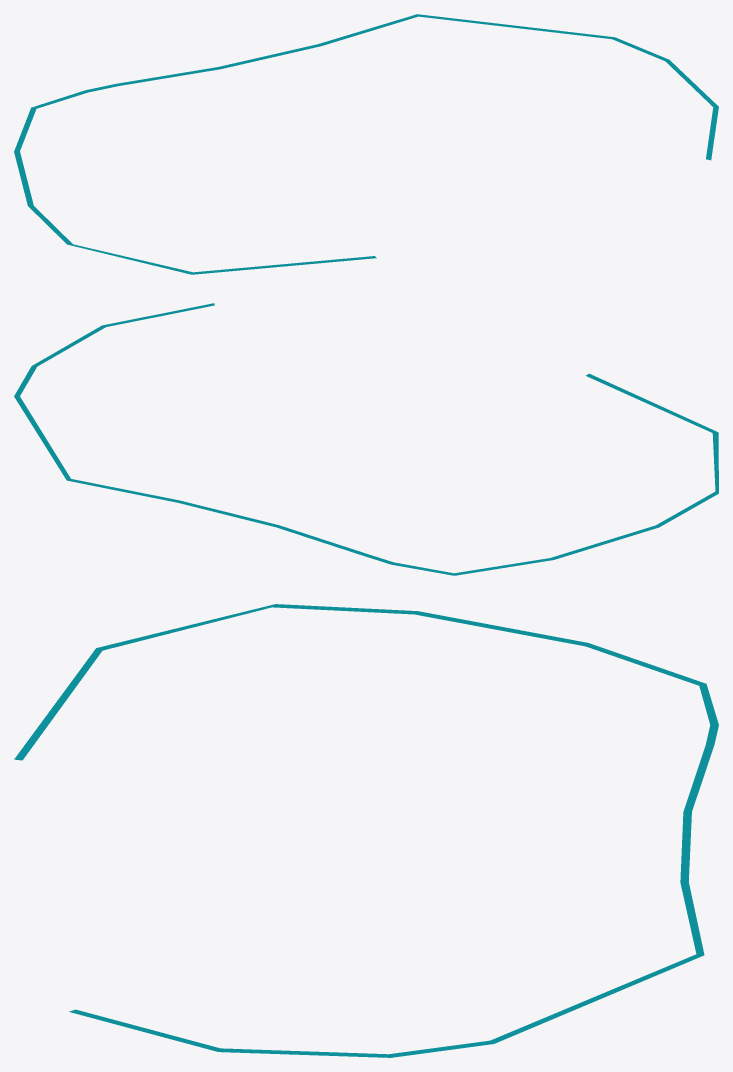
File: moat.fbx
3 views of the same model, one above another, from view 1: azimuth 30°, elevation 25°; view 2: azimuth 150°, elevation 25°; view 3: azimuth 270°, elevation 25° (orthographic). The views are drawn at different scales.
Visible parts, largest first — view 1: moat; view 2: moat; view 3: moat.
Boxes of the visible parts, x1,y1,x2,y2 form: moat: (14, 14, 718, 274); moat: (14, 303, 718, 575); moat: (14, 604, 718, 1057).
Bounding box in the file's own units: 136 × 0.7294 × 89.77.
